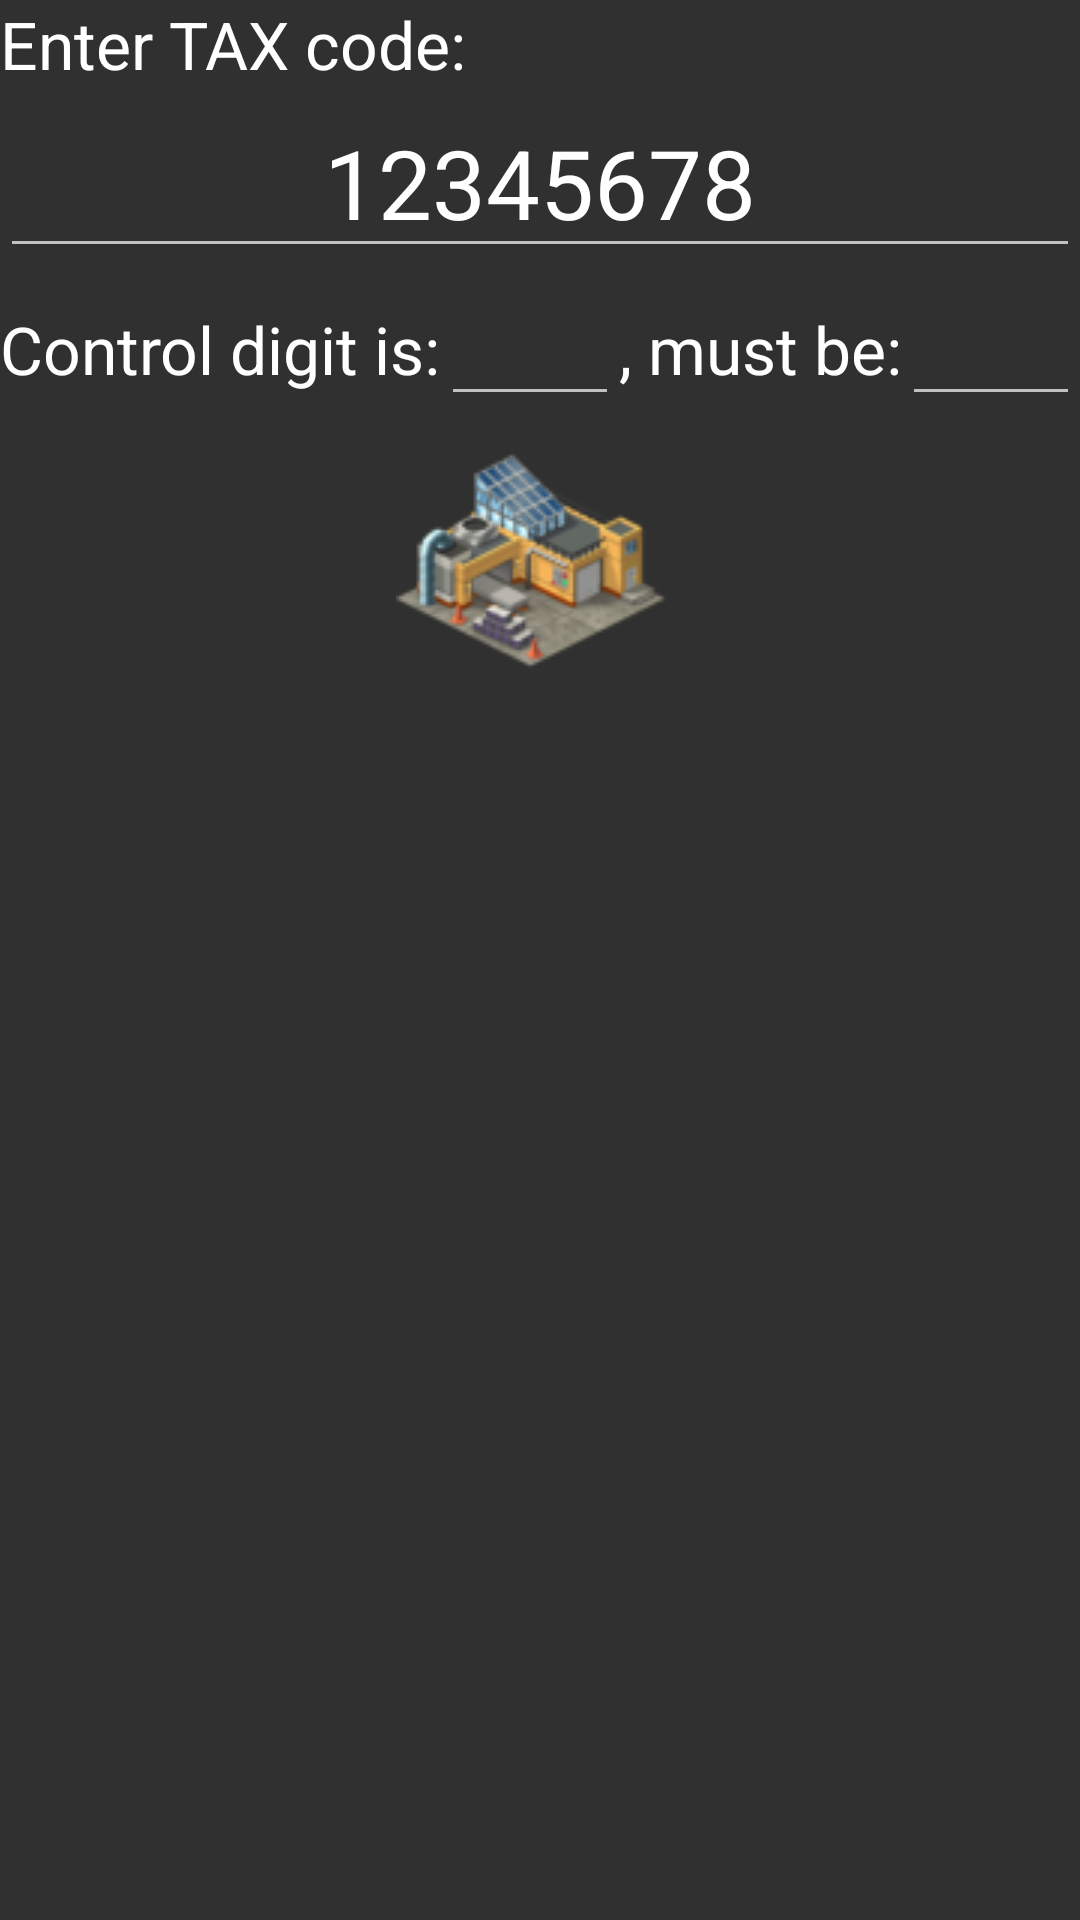

Where to tap for icons on this 1080px x 1920px app screen, as (x,y):
fabrik: (530,560)
